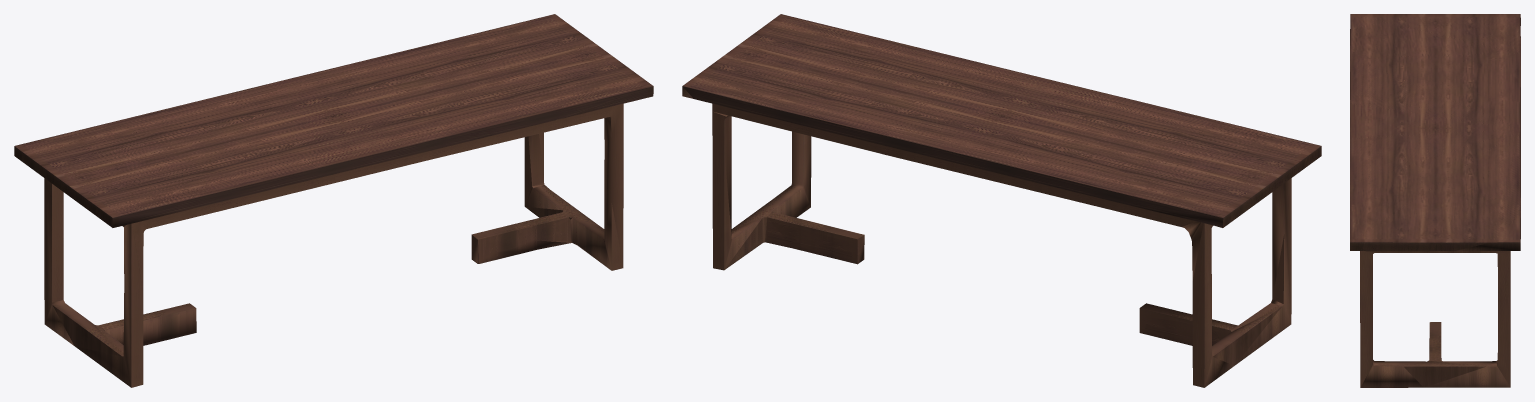
File: PR_Table.fbx
3 renders of one model, left to right at view 1: azimuth 30°, elevation 25°; view 2: azimuth 150°, elevation 25°; view 3: azimuth 270°, elevation 25°, orthographic. The views are drawn at different scales.
Parts seen in each view (by area): view 1: Mesh_0; view 2: Mesh_0; view 3: Mesh_0.
Boxes of the visible parts, x1=… form: Mesh_0: x1=14, y1=14, x2=653, y2=387; Mesh_0: x1=682, y1=14, x2=1321, y2=387; Mesh_0: x1=1350, y1=14, x2=1520, y2=387.
Bounding box in the file's own units: 190 × 60.51 × 60.07.
1 material, 1 textured.
